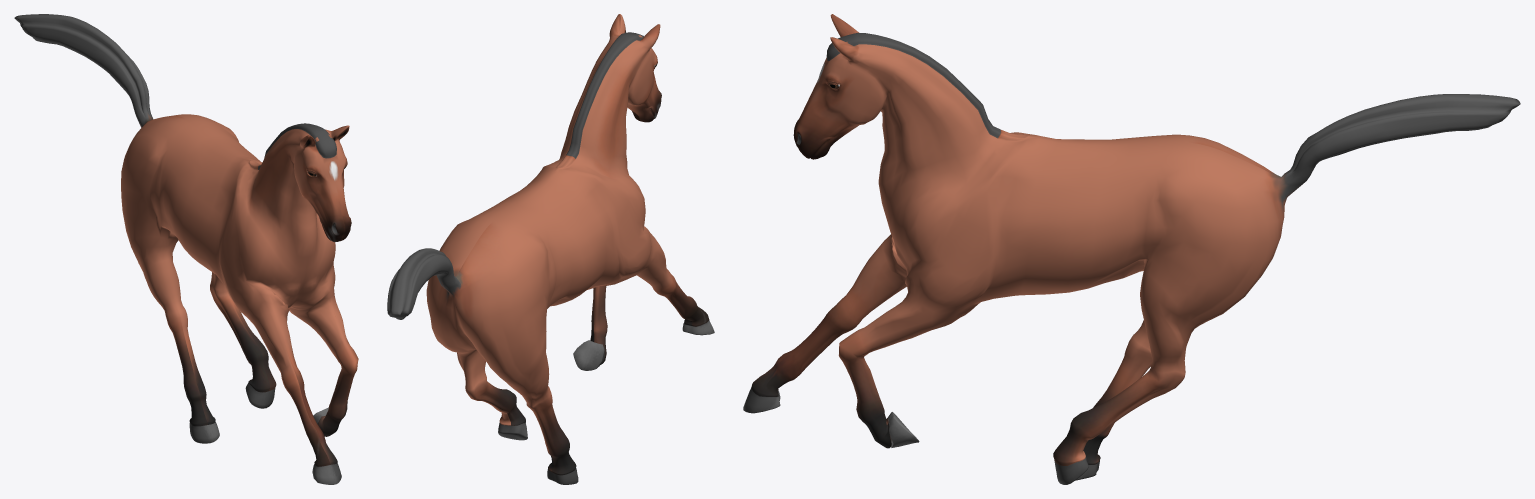
File: horse_obj_19.obj
3 renders of one model, left to right at view 1: azimuth 30°, elevation 25°; view 2: azimuth 150°, elevation 25°; view 3: azimuth 270°, elevation 25°, orthographic. The views are drawn at different scales.
Parts seen in each view (by area): view 1: Figure_1; view 2: Figure_1; view 3: Figure_1.
Part boxes in pixels (box(x1,y1,x2,y2)): Figure_1: box(14, 14, 358, 484); Figure_1: box(387, 14, 714, 484); Figure_1: box(743, 14, 1520, 484).
Size of the model in its own units: 0.2421 by 0.8505 by 1.28.
7 materials, 7 textured.
